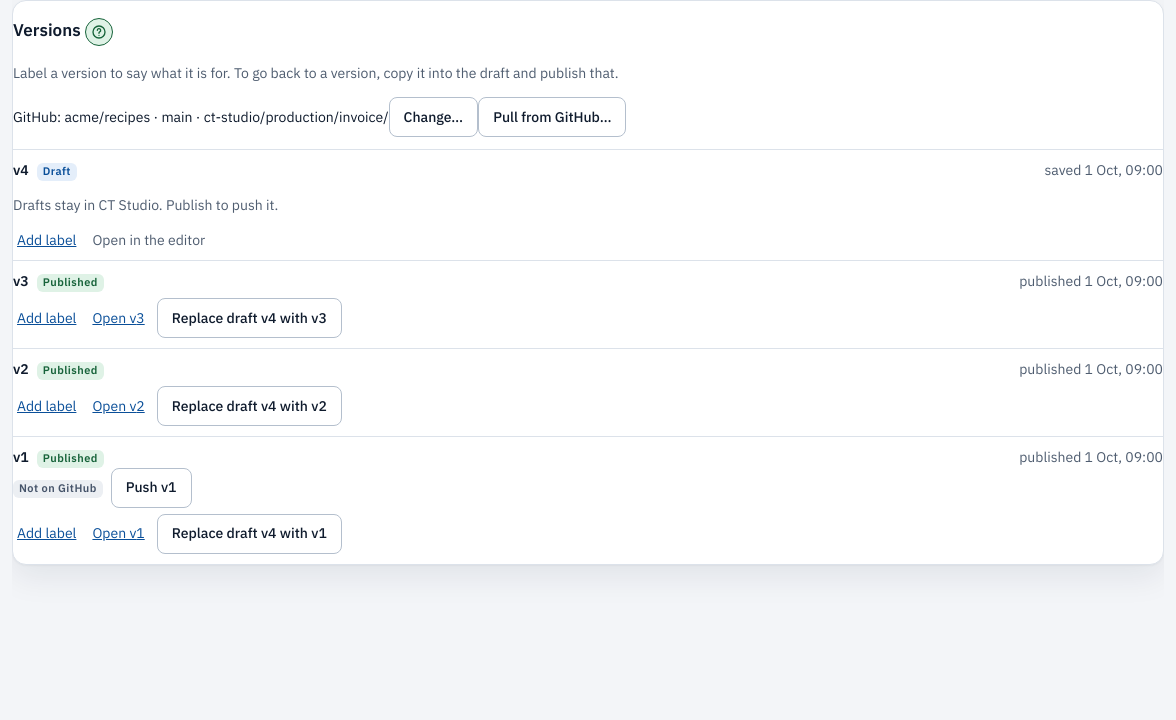
VersionsPanel GitHub sync › shows a pull request outcome as PR #n open
Click the button "Push v1" at [151, 488], box [111,468,192,508]
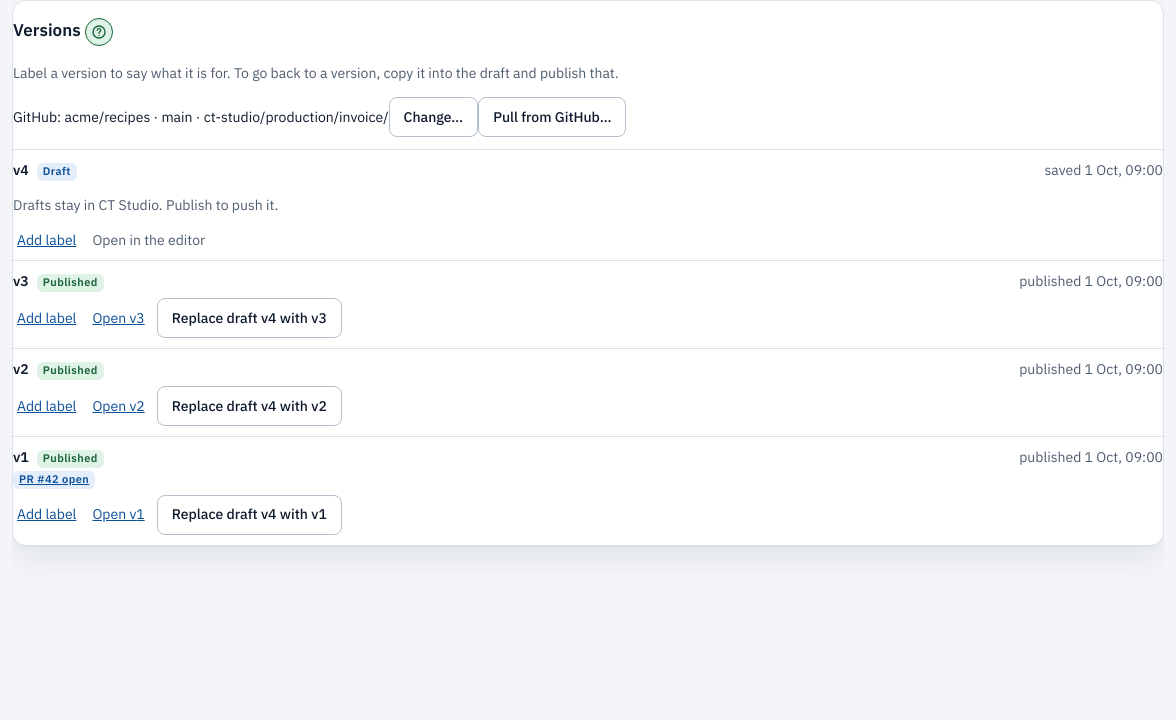
Check: the link "PR #42 open" is shown, box [13,471,95,488]
